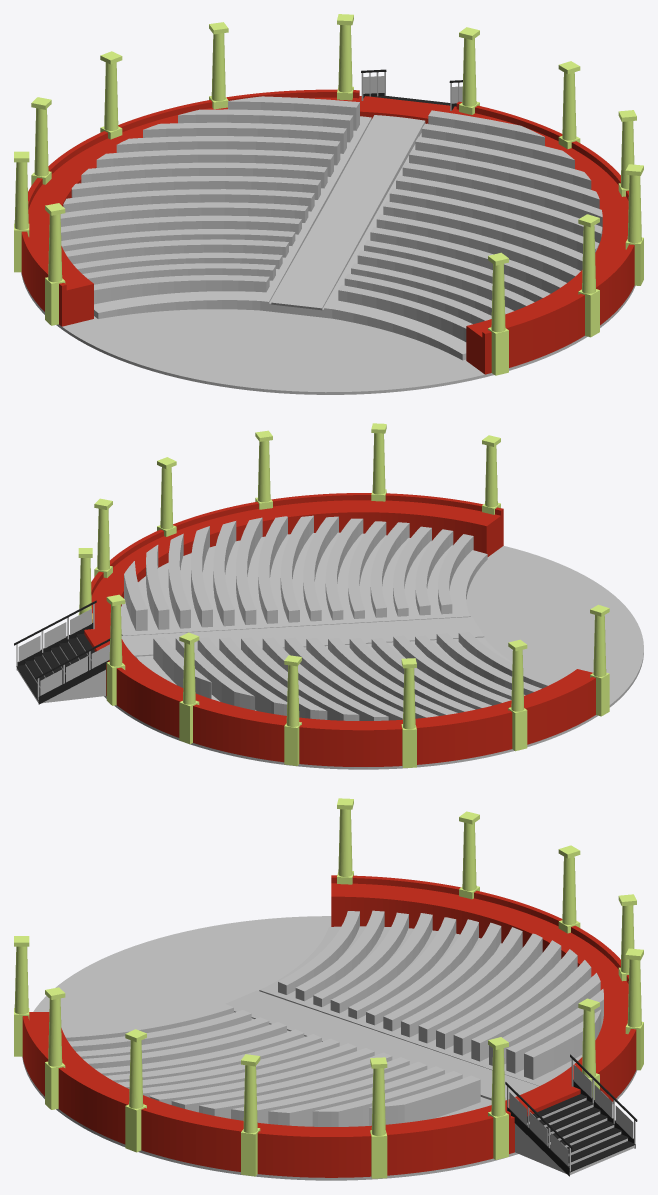
File: Atrium.obj
3 views of the same model, one above another, from view 1: azimuth 30°, elevation 25°; view 2: azimuth 150°, elevation 25°; view 3: azimuth 270°, elevation 25° (orthographic). The views are drawn at different scales.
Visible parts, largest first — view 1: Circle.001_Circle, Cylinder, Circle_Circle.003, Cube, Cube.001, Plane, Stair; view 2: Circle.001_Circle, Circle_Circle.003, Cylinder, Cube, Plane, Stair, Cube.001; view 3: Circle.001_Circle, Circle_Circle.003, Cylinder, Cube, Stair, Cube.001, Plane.
Boxes of the visible parts, x1,y1,x2,y2 form: Circle.001_Circle: (60, 96, 602, 341); Cylinder: (21, 272, 635, 394); Circle_Circle.003: (21, 89, 634, 374); Cube: (14, 14, 643, 375); Cube.001: (271, 115, 425, 310); Plane: (94, 116, 466, 360); Stair: (361, 69, 462, 110); Circle.001_Circle: (124, 515, 554, 720); Circle_Circle.003: (84, 493, 595, 766); Cylinder: (104, 546, 643, 769); Cube: (78, 423, 609, 768); Plane: (121, 532, 512, 710); Stair: (14, 600, 110, 704); Cube.001: (121, 617, 484, 657); Circle.001_Circle: (63, 910, 603, 1126); Circle_Circle.003: (22, 875, 636, 1177); Cylinder: (22, 916, 637, 1180); Cube: (14, 798, 643, 1178); Stair: (505, 1054, 637, 1176); Cube.001: (225, 990, 538, 1100); Plane: (234, 926, 582, 1118).
Size of the model in its own units: 20.34 by 4.17 by 20.34.
